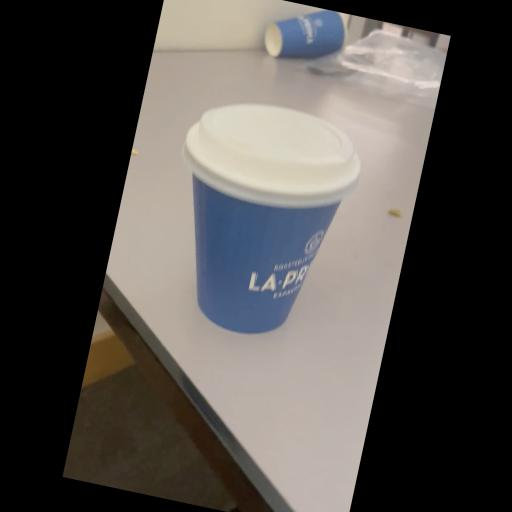lp_paper_cup: (148, 89, 372, 349), (261, 0, 351, 71)
